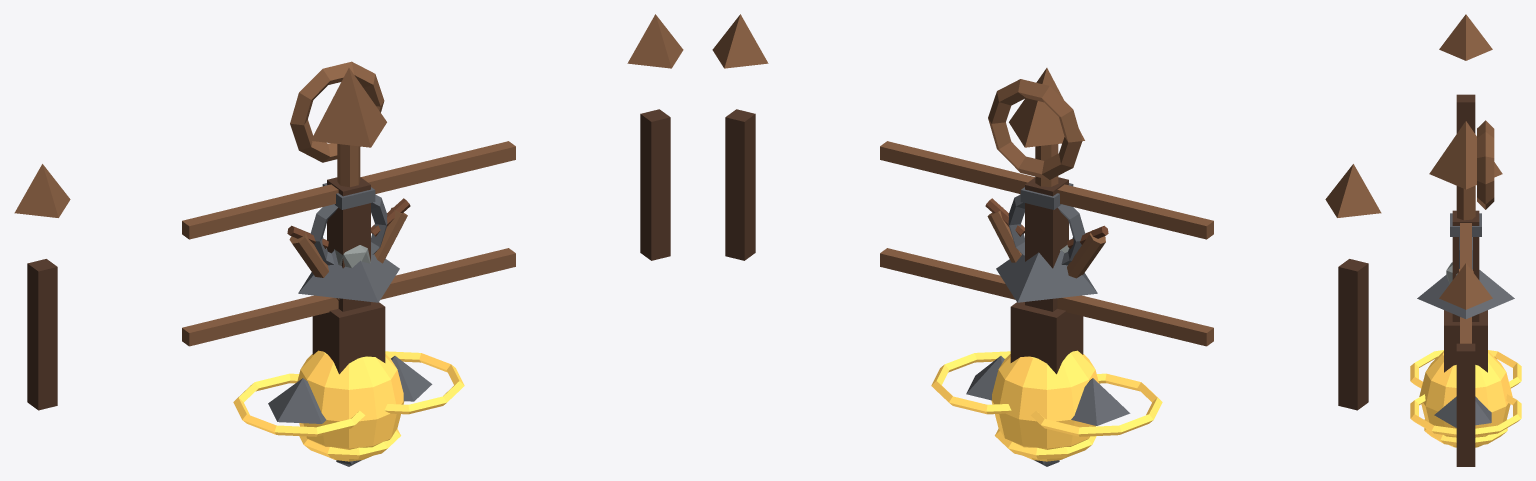
The model's file is farm-tools.glb.
3 renders of one model, left to right at view 1: azimuth 30°, elevation 25°; view 2: azimuth 150°, elevation 25°; view 3: azimuth 270°, elevation 25°, orthographic. The views are drawn at different scales.
Visible parts, largest first — view 1: bell_body, fence_line_rail.001, fence_line_rail, fence_line_post.002, fence_line_post, lantern_frame, fence_post_cap, crook_hook, lantern_cap, fence_post_body, ram_ripple, fence_line_cap.002 (+8 smaller); view 2: bell_body, fence_line_rail.001, fence_line_rail, fence_line_post.002, fence_line_post, crook_hook, lantern_frame, lantern_cap, fence_post_body, fence_post_cap, ram_ripple, fence_line_cap.002 (+8 smaller); view 3: bell_body, fence_line_post.002, fence_post_cap, lantern_cap, lantern_frame, crook_hook, fence_line_cap, fence_line_cap.002, ram_ripple.001, fence_post_body, ram_ripple, ram_hoof.001 (+6 smaller).
Boxes of the visible parts, x1,y1,x2,y2 form: bell_body: [297, 350, 404, 461]; fence_line_rail.001: [182, 141, 515, 239]; fence_line_rail: [182, 248, 515, 346]; fence_line_post.002: [640, 109, 670, 260]; fence_line_post: [27, 259, 57, 410]; lantern_frame: [312, 302, 385, 374]; fence_post_cap: [311, 68, 386, 147]; crook_hook: [290, 61, 384, 162]; lantern_cap: [298, 250, 399, 302]; fence_post_body: [327, 177, 370, 311]; ram_ripple: [233, 373, 365, 436]; fence_line_cap.002: [627, 14, 683, 68]; bell_body: [991, 350, 1098, 461]; fence_line_rail.001: [880, 141, 1213, 239]; fence_line_rail: [880, 248, 1213, 346]; fence_line_post.002: [725, 109, 755, 260]; fence_line_post: [1338, 259, 1368, 410]; crook_hook: [988, 79, 1082, 179]; lantern_frame: [1010, 302, 1083, 374]; lantern_cap: [996, 250, 1097, 302]; fence_post_body: [1025, 177, 1068, 311]; fence_post_cap: [1009, 68, 1084, 147]; ram_ripple: [1030, 373, 1162, 436]; fence_line_cap.002: [712, 14, 768, 68]; bell_body: [1419, 351, 1512, 447]; fence_line_post.002: [1456, 343, 1475, 466]; fence_post_cap: [1429, 121, 1502, 189]; lantern_cap: [1417, 270, 1514, 318]; lantern_frame: [1444, 310, 1487, 372]; crook_hook: [1477, 120, 1494, 209]; fence_line_cap: [1439, 14, 1492, 60]; fence_line_cap.002: [1439, 263, 1492, 309]; ram_ripple.001: [1410, 394, 1521, 436]; fence_post_body: [1452, 210, 1479, 321]; ram_ripple: [1410, 350, 1521, 388]; ram_hoof.001: [1434, 396, 1491, 427].
Size of the model in its own units: 2.62 by 1.5 by 0.4527.
